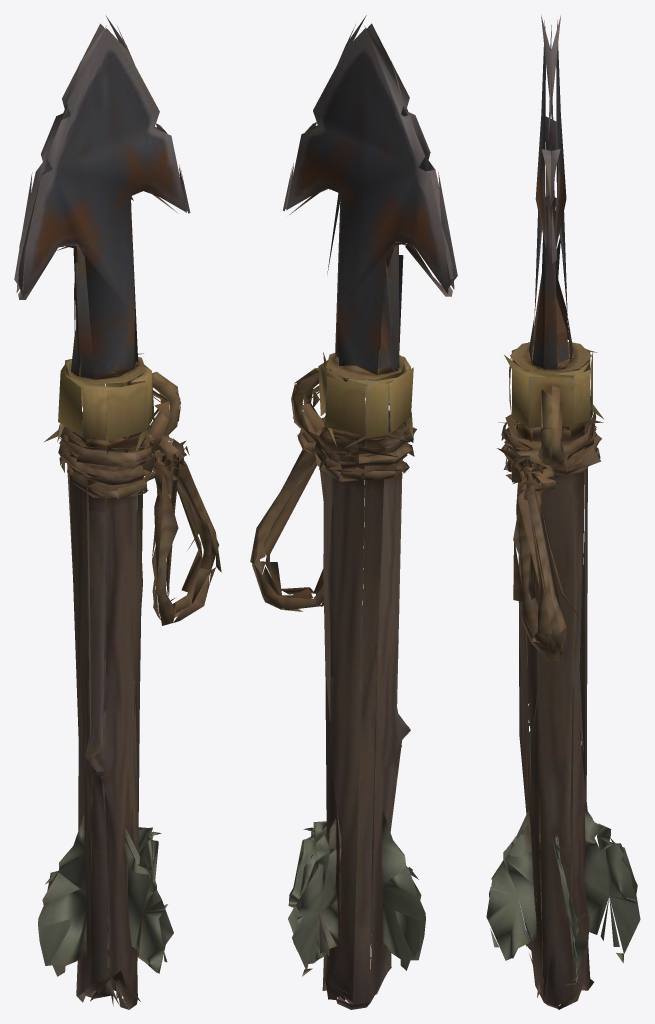
Rendered from harpoon.glb.
The picture shows the model from 3 angles, left to right: view 1: azimuth 30°, elevation 25°; view 2: azimuth 150°, elevation 25°; view 3: azimuth 270°, elevation 25°; orthographic projection.
Visible parts, largest first — view 1: harpoon; view 2: harpoon; view 3: harpoon.
Boxes of the visible parts, x1,y1,x2,y2 form: harpoon: (14, 16, 221, 1009); harpoon: (250, 15, 457, 1009); harpoon: (486, 15, 640, 1009).
Bounding box in the file's own units: 0.2375 × 1.1 × 0.1567.
Materials: 1 (1 with a texture image).
